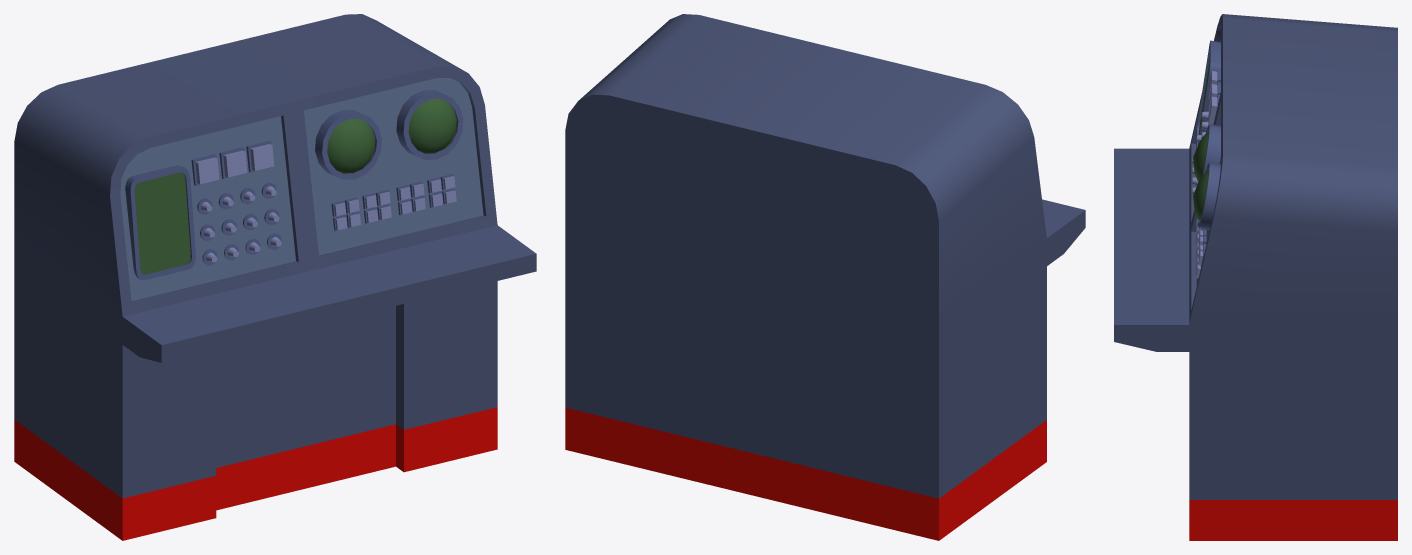
The model's file is RADIOGARDE.fbx.
3 views of the same model, side by side, from view 1: azimuth 30°, elevation 25°; view 2: azimuth 150°, elevation 25°; view 3: azimuth 270°, elevation 25° (orthographic). The views are drawn at different scales.
Visible parts, largest first — view 1: Cube.158, Cube.170, Cylinder.066, Cylinder.068, Cylinder.075, Cylinder.076, Cylinder.074, Cube.167, Cube.168, Cube.169; view 2: Cube.158; view 3: Cube.158, Cylinder.066, Cylinder.068, Cube.170.
Part boxes in pixels (x1,y1,x2,y2): Cube.158: (14,14,536,540); Cube.170: (125,165,195,280); Cylinder.066: (396,90,463,159); Cylinder.068: (315,110,381,179); Cylinder.075: (200,208,279,240); Cylinder.076: (197,182,276,214); Cylinder.074: (202,233,281,265); Cube.167: (219,147,247,178); Cube.168: (246,140,274,172); Cube.169: (191,154,219,185); Cube.158: (565,14,1085,540); Cube.158: (1114,14,1397,540); Cylinder.066: (1193,162,1220,229); Cylinder.068: (1193,124,1220,181); Cube.170: (1196,40,1220,147).
Bounding box in the file's own units: 200 × 194 × 136.
